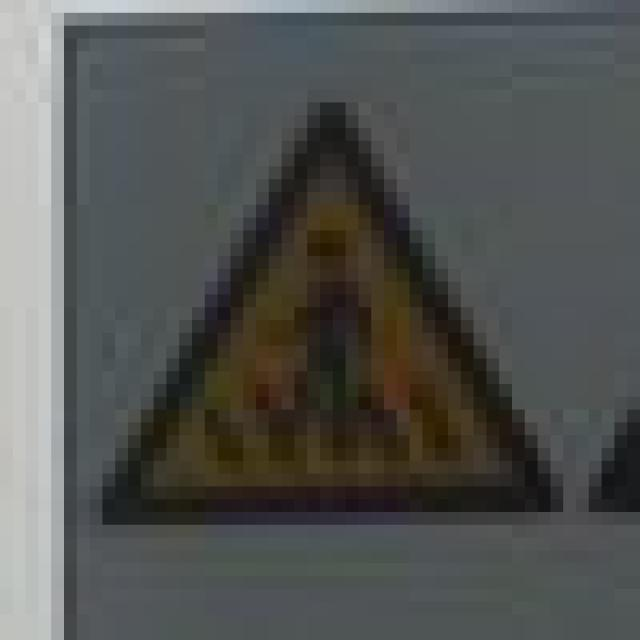pass_either_side: (64, 77, 563, 499)
